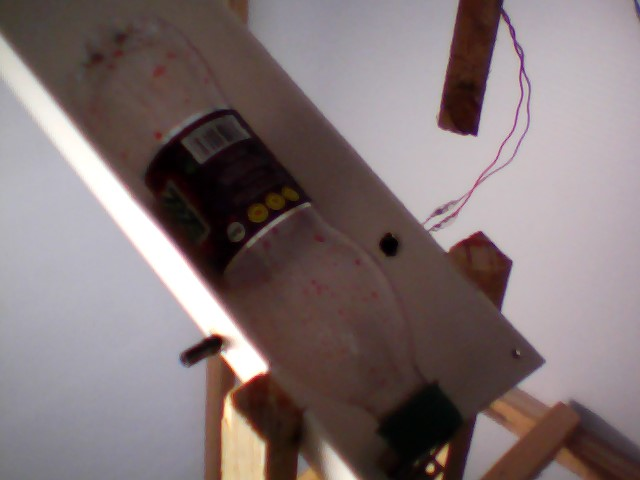plastico: (65, 10, 464, 464)
